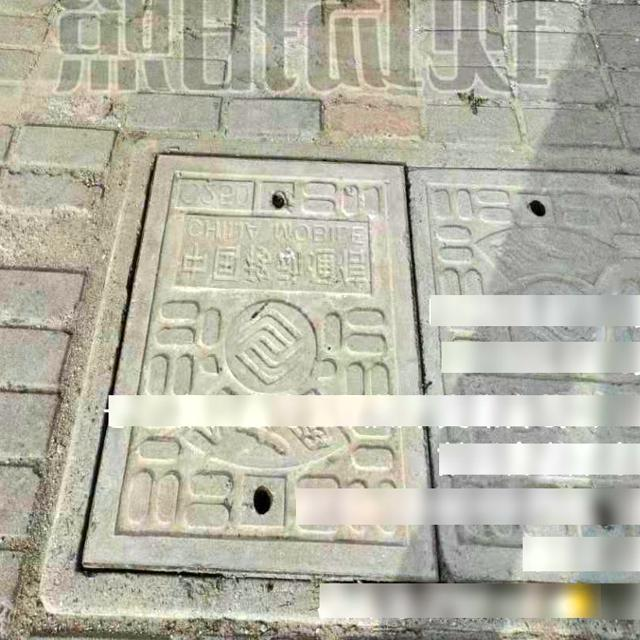good: (40, 138, 640, 622)
